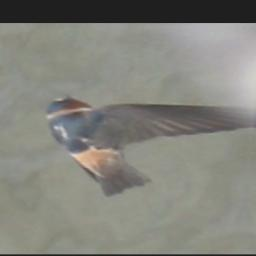Swallow: (31, 93, 254, 200)
